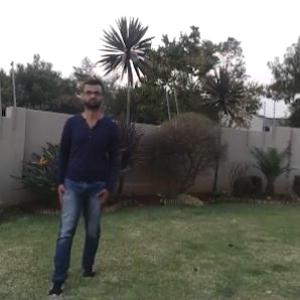follow: (46, 56, 124, 293)
